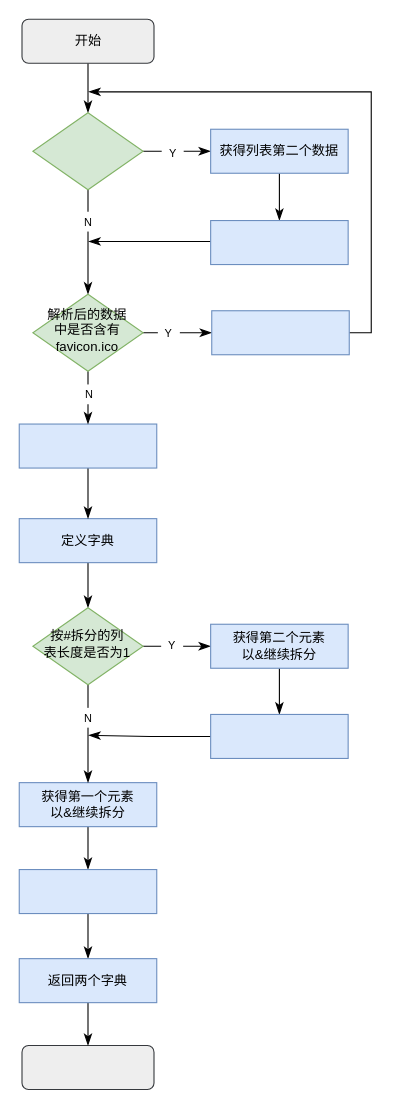
Some shapes in this 402 by 1109 pixel diagram are drawn without their labels. Each missing label, with the centre of its shape:
关闭连接: the point at 280,332
去除第二个 数据的/和？符: the point at 279,242
将功能参数封装为字典: the point at 87,891
将解析后的 数据以#拆分: the point at 87,445
将配置参数封装为字典: the point at 279,735
结束: the point at 87,1067
解析后的数据 是否为列表？: the point at 87,151
